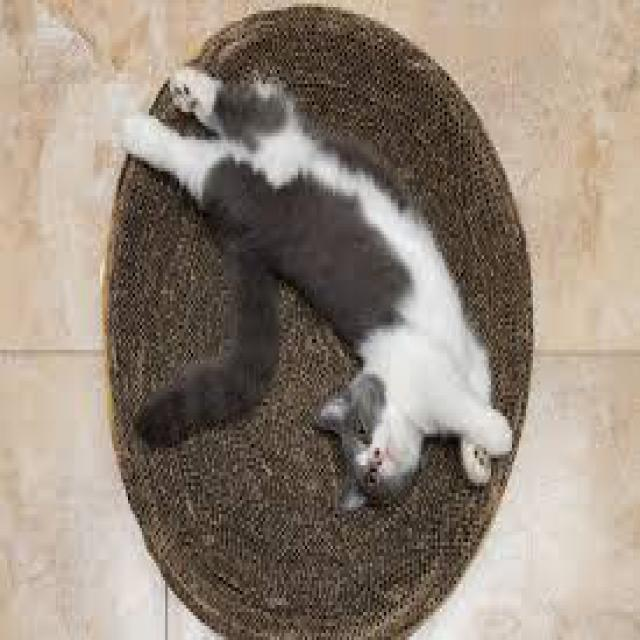cat: (115, 57, 520, 518)
